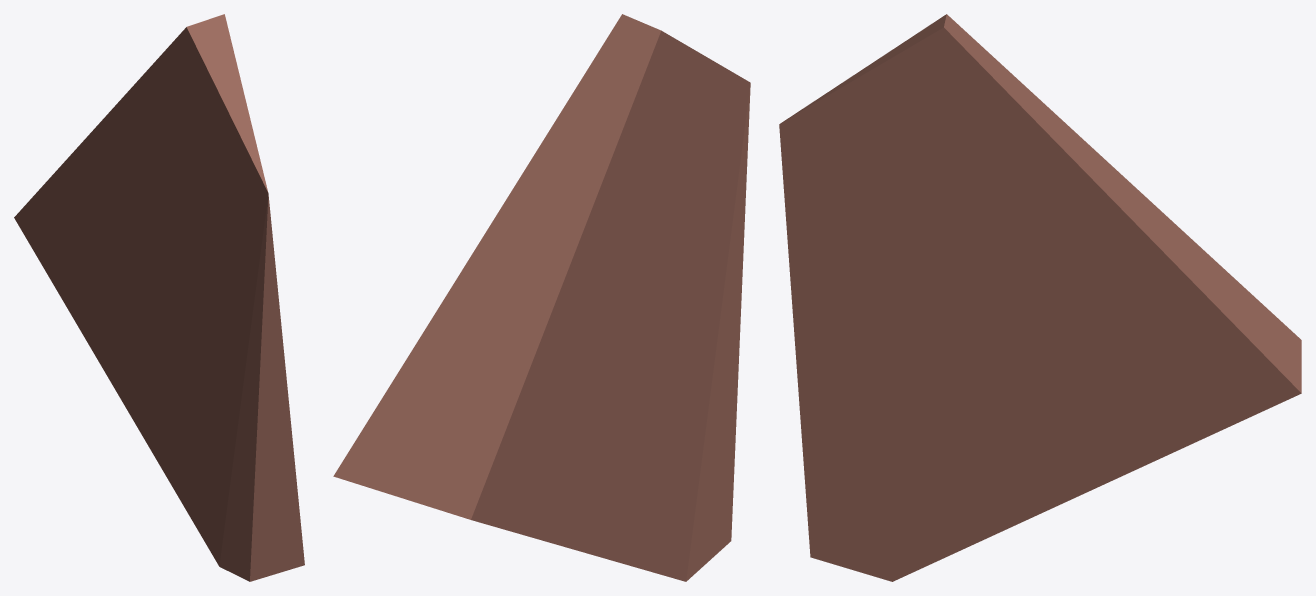
File: T_MurDetruit_7.4.fbx
3 views of the same model, side by side, from view 1: azimuth 30°, elevation 25°; view 2: azimuth 150°, elevation 25°; view 3: azimuth 270°, elevation 25° (orthographic). The views are drawn at different scales.
Visible parts, largest first — view 1: T_MurDetruit_7.4; view 2: T_MurDetruit_7.4; view 3: T_MurDetruit_7.4.
Part boxes in pixels (x1,y1,x2,y2): T_MurDetruit_7.4: (14,14,304,581); T_MurDetruit_7.4: (333,14,750,581); T_MurDetruit_7.4: (779,14,1301,581).
Bounding box in the file's own units: 13.48 × 54.32 × 47.55.
